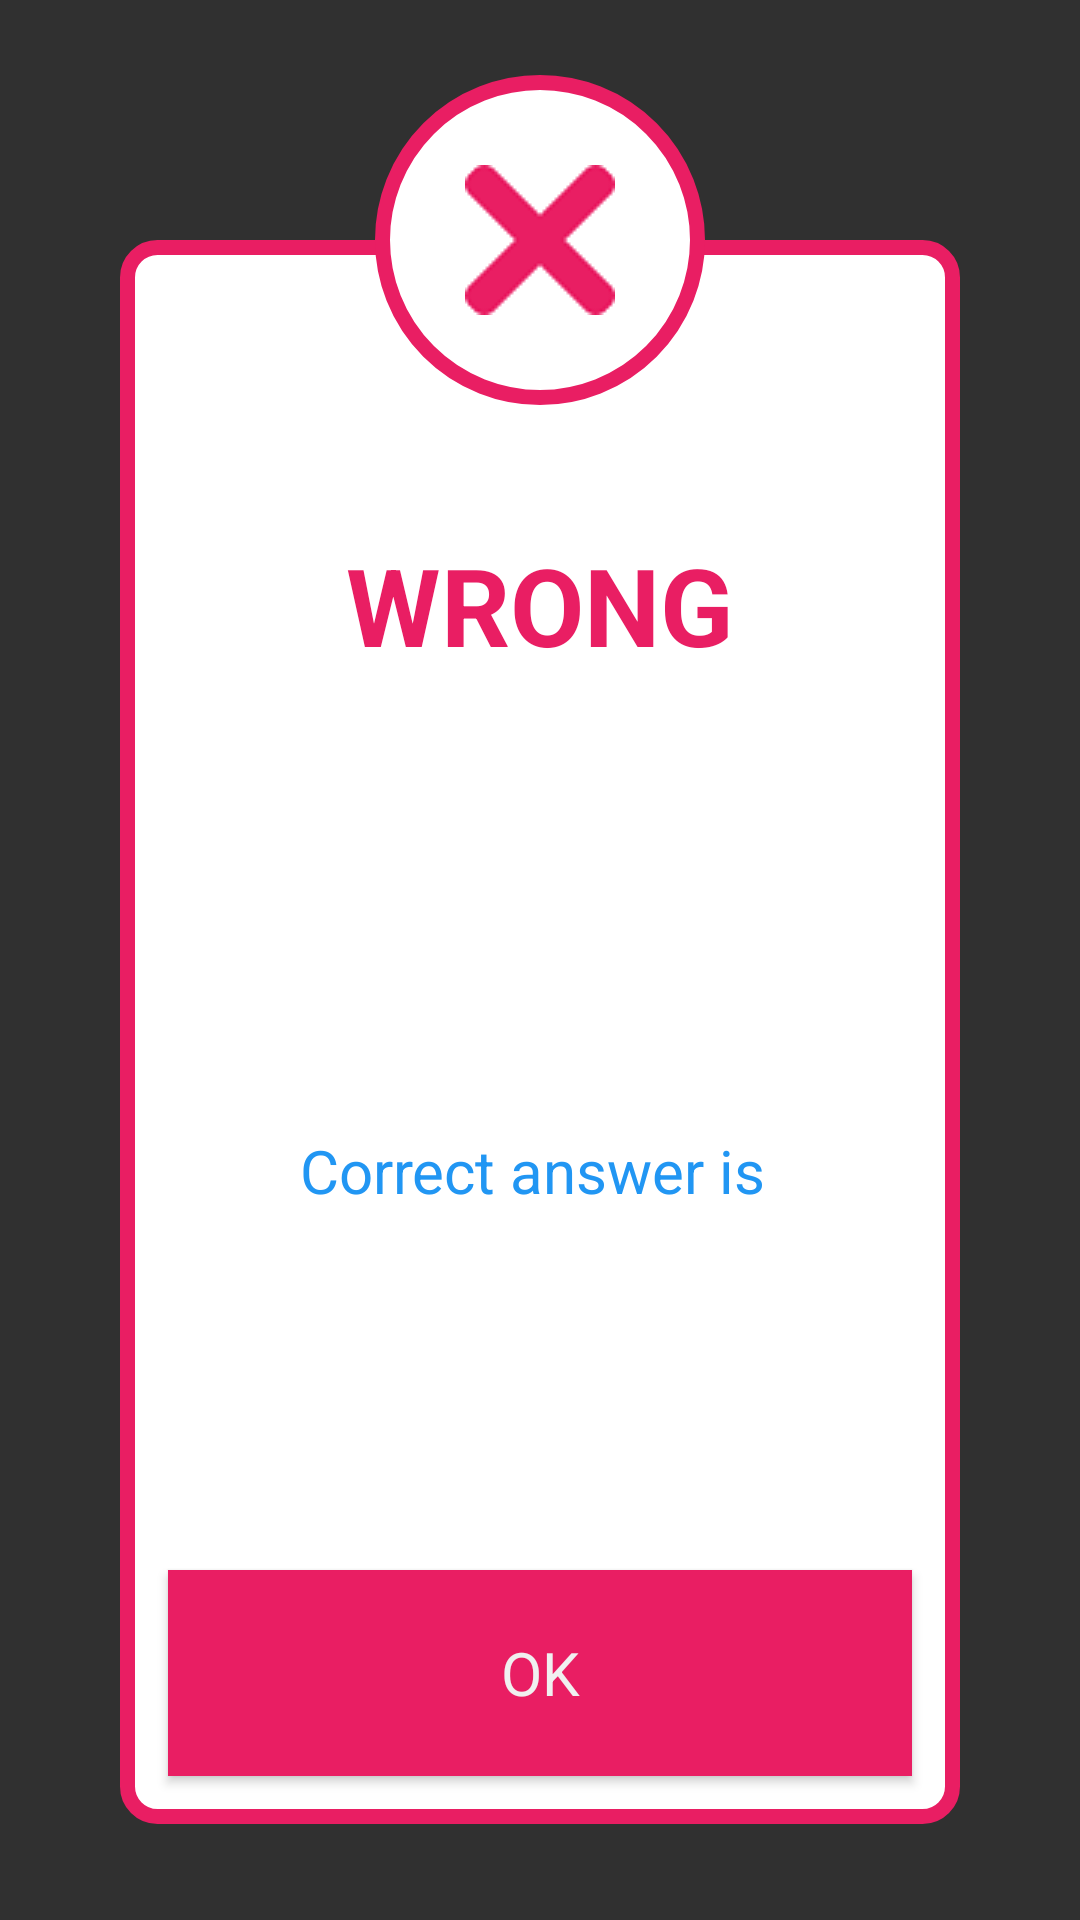

Icons on this 1080px×1920px Android screen, each with the point to tap as point (x, y):
cancel: point (540, 240)
